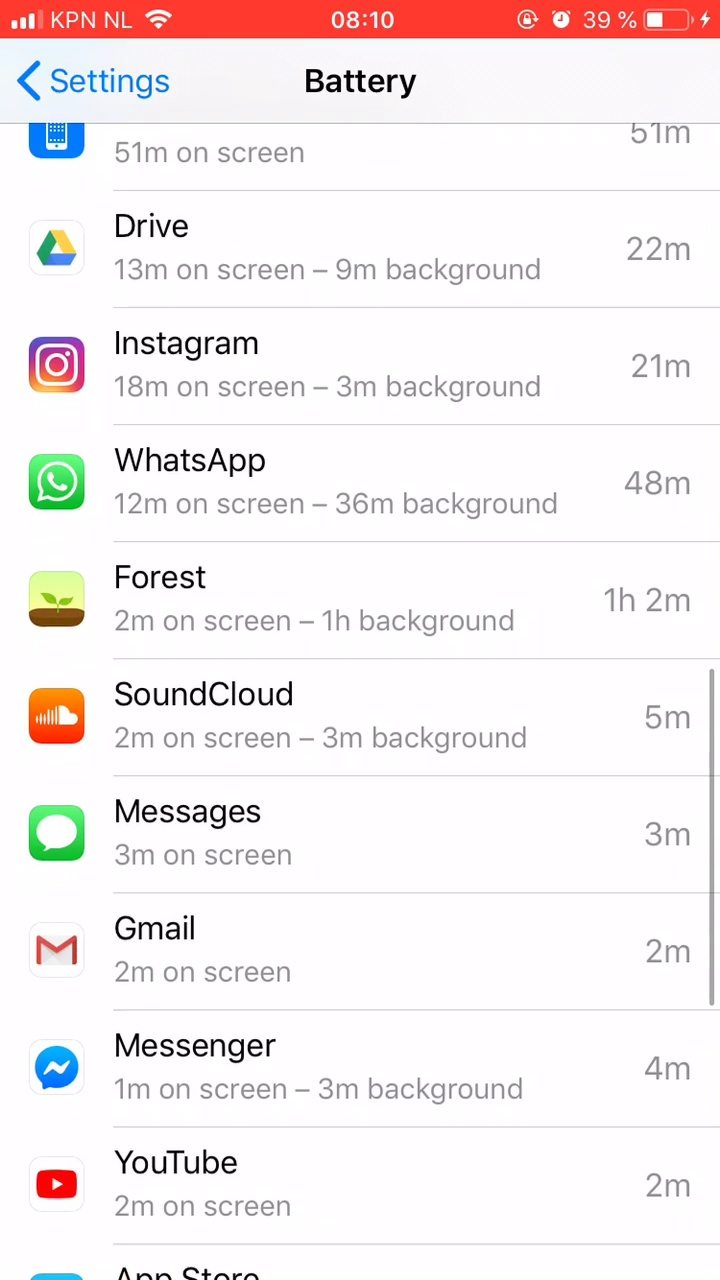app: (35, 198, 707, 290), (28, 324, 700, 416), (25, 432, 697, 524), (25, 553, 697, 645), (26, 672, 698, 764), (22, 781, 694, 873), (20, 779, 692, 871), (27, 896, 699, 988), (31, 1017, 703, 1109), (22, 1131, 694, 1223)
